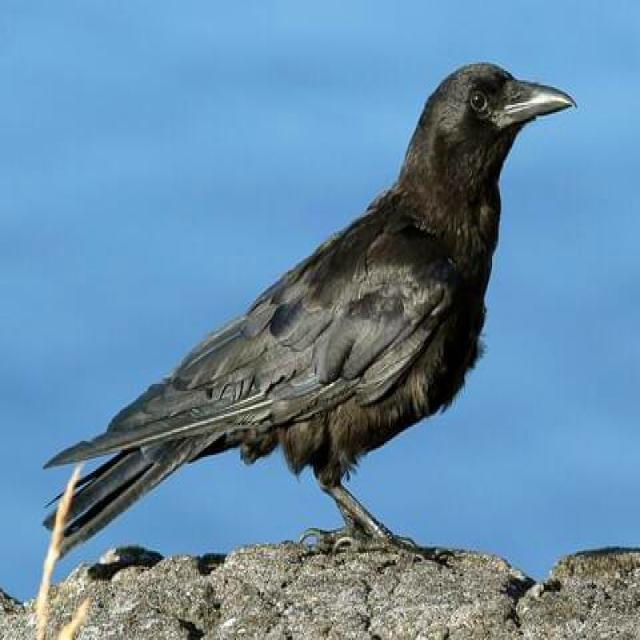crow: (44, 62, 573, 555)
